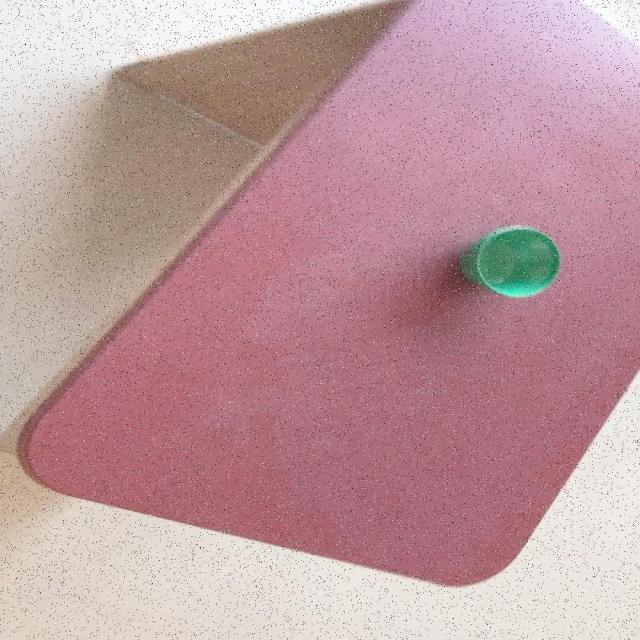Bowl: (10, 0, 640, 586), (463, 223, 562, 298)
